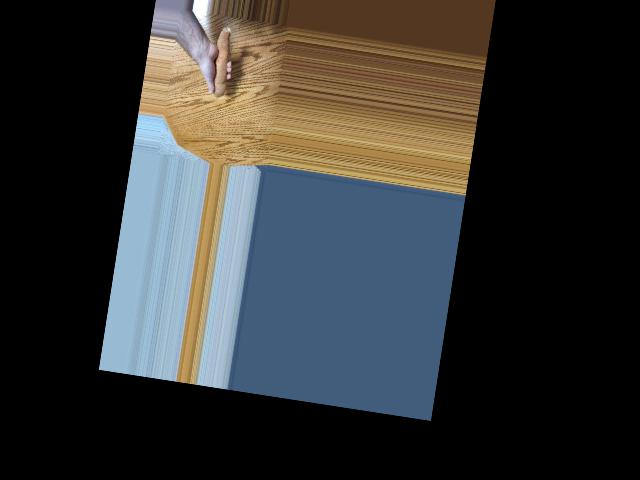sweet_potato: (203, 24, 238, 103)
